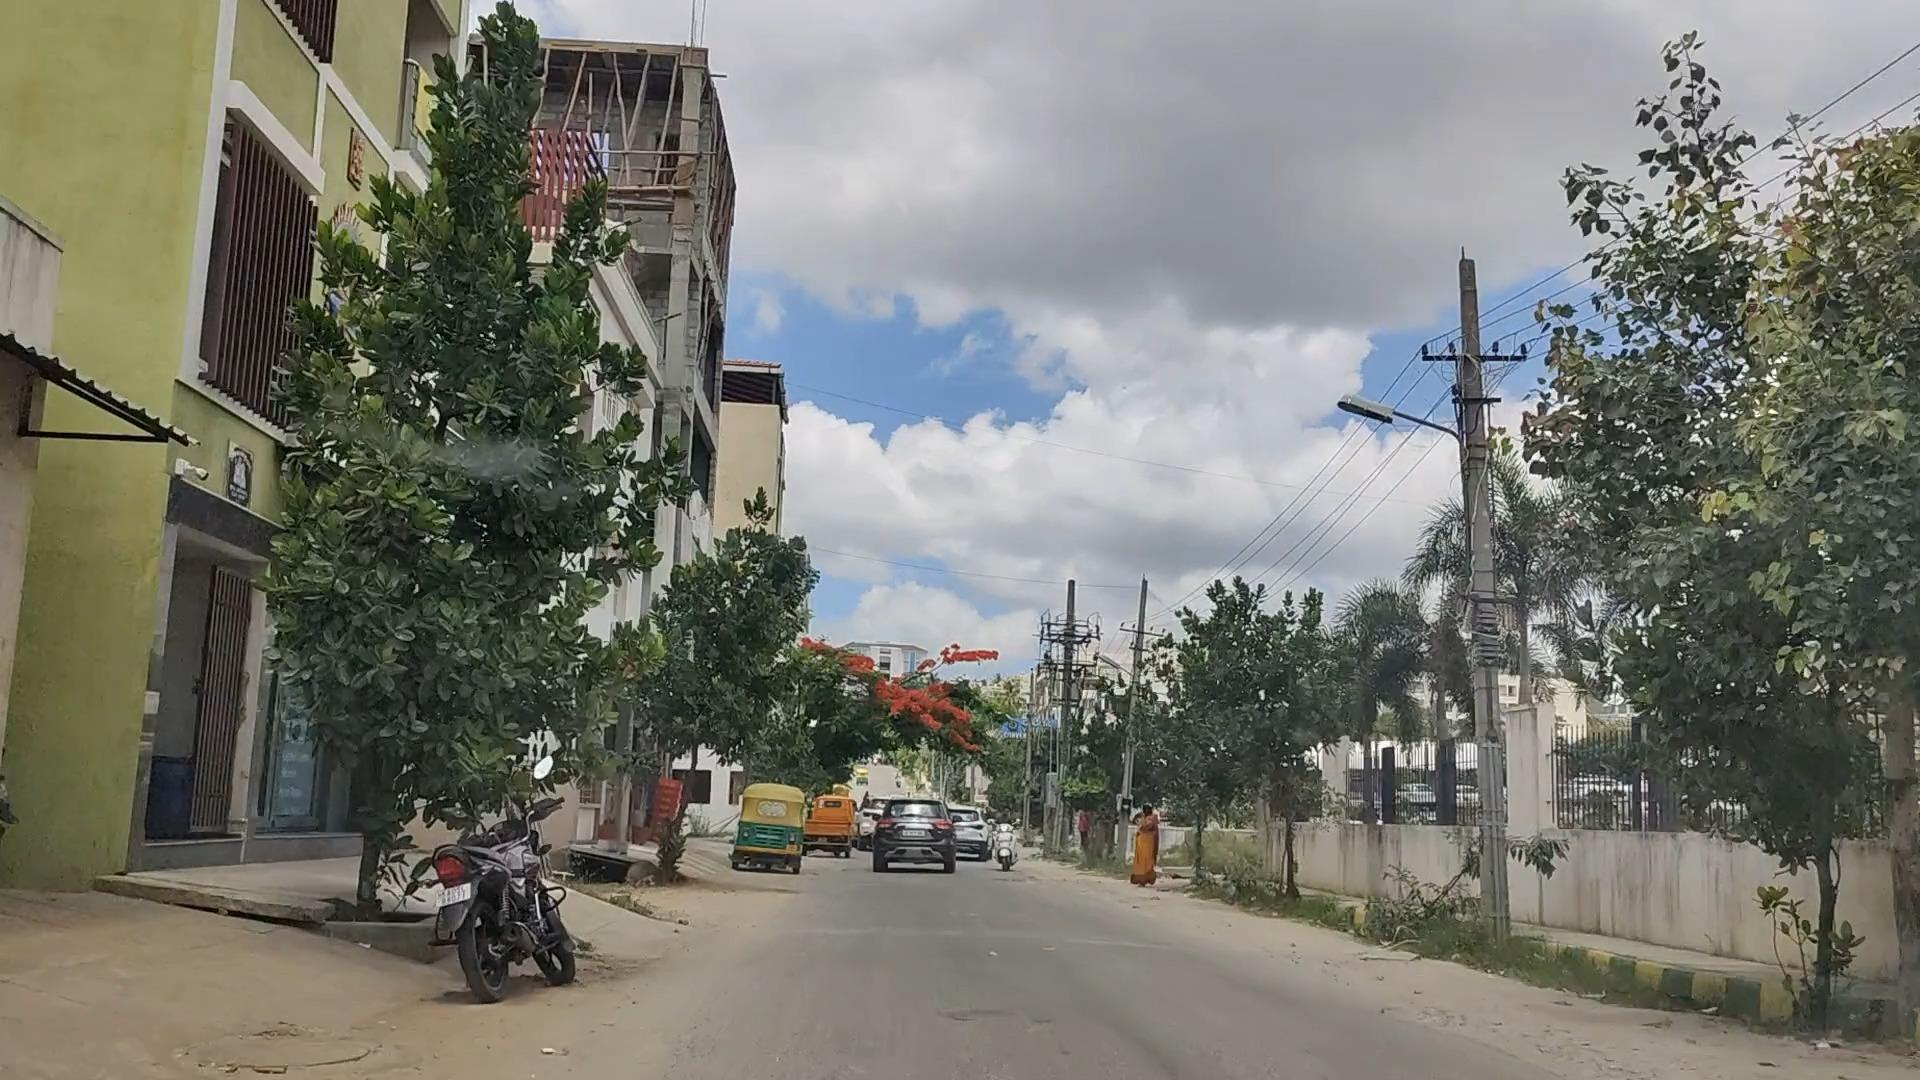RoadDamages: (1187, 971, 1602, 1080), (108, 990, 485, 1080)
